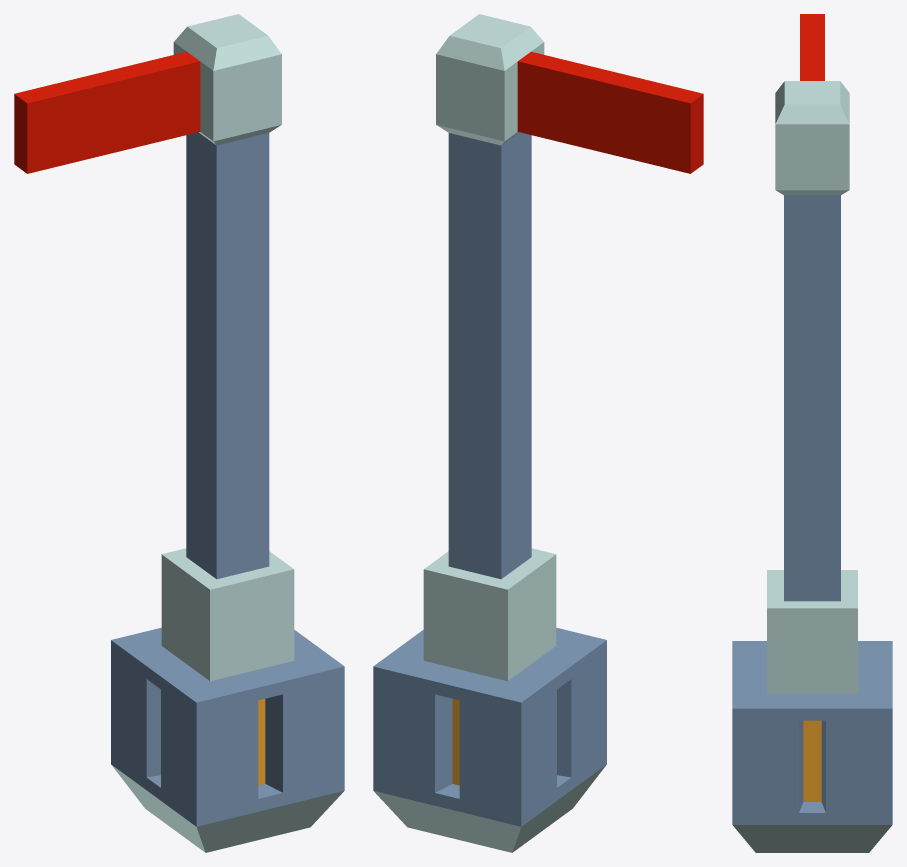
Rendered from checkpoint_pole.gltf.
3 renders of one model, left to right at view 1: azimuth 30°, elevation 25°; view 2: azimuth 150°, elevation 25°; view 3: azimuth 270°, elevation 25°, orthographic. The views are drawn at different scales.
Visible parts, largest first — view 1: checkpoint_pole; view 2: checkpoint_pole; view 3: checkpoint_pole.
Boxes of the visible parts, x1,y1,x2,y2 form: checkpoint_pole: [14, 14, 344, 852]; checkpoint_pole: [373, 14, 703, 852]; checkpoint_pole: [732, 14, 892, 852].
Bounding box in the file's own units: 3.79 × 10.14 × 2.
